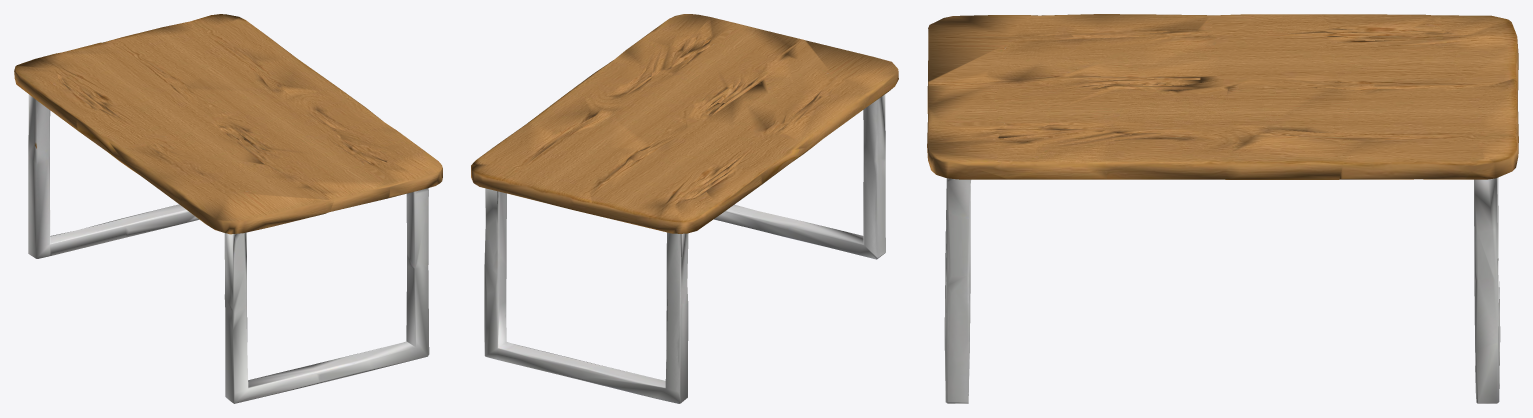
Rendered from mesa.glb.
The picture shows the model from 3 angles, left to right: view 1: azimuth 30°, elevation 25°; view 2: azimuth 150°, elevation 25°; view 3: azimuth 270°, elevation 25°; orthographic projection. The views are drawn at different scales.
Visible parts, largest first — view 1: tripo_node_3b6530e7-8c00-4e55-ab5e-7f9a7bfaa050; view 2: tripo_node_3b6530e7-8c00-4e55-ab5e-7f9a7bfaa050; view 3: tripo_node_3b6530e7-8c00-4e55-ab5e-7f9a7bfaa050.
Boxes of the visible parts, x1,y1,x2,y2 form: tripo_node_3b6530e7-8c00-4e55-ab5e-7f9a7bfaa050: (14,14,442,403); tripo_node_3b6530e7-8c00-4e55-ab5e-7f9a7bfaa050: (471,14,898,403); tripo_node_3b6530e7-8c00-4e55-ab5e-7f9a7bfaa050: (927,14,1518,403).
Bounding box in the file's own units: 0.5978 × 0.4708 × 0.9995.
1 material, 1 textured.
